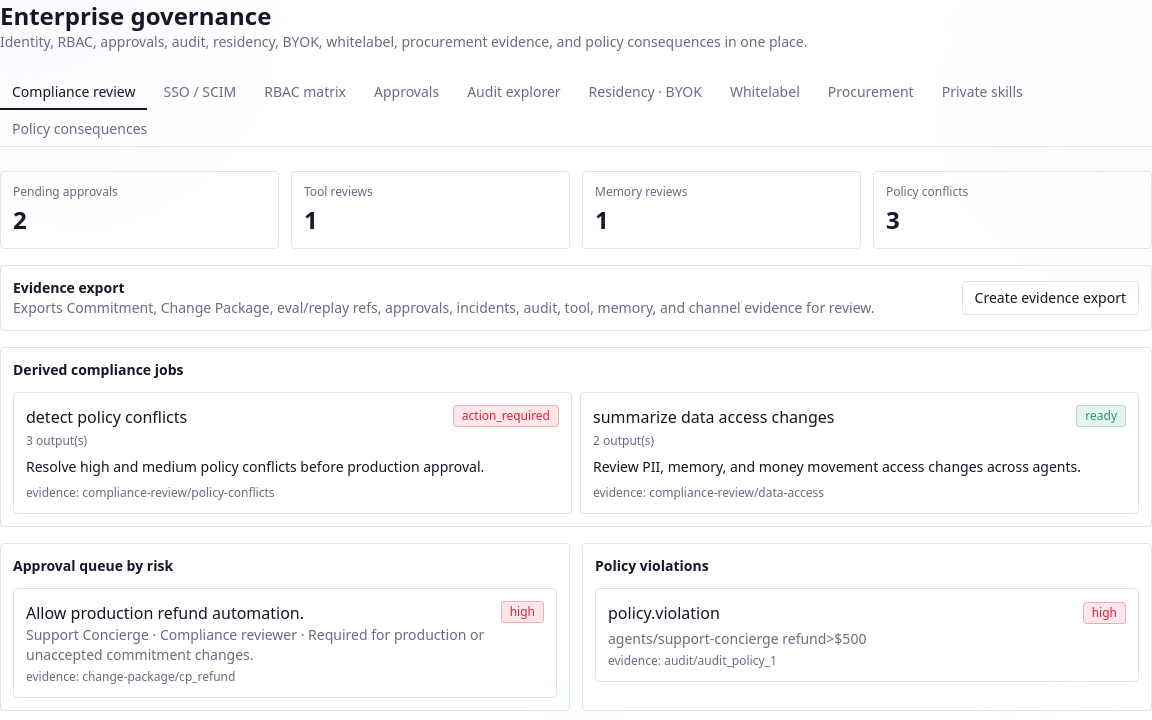
GovernOverview › does not substitute local SSO claims when compliance evidence omits SSO summaries
Click the tab with test id "govern-tab-sso": [200, 93] box [152,76,248,110]
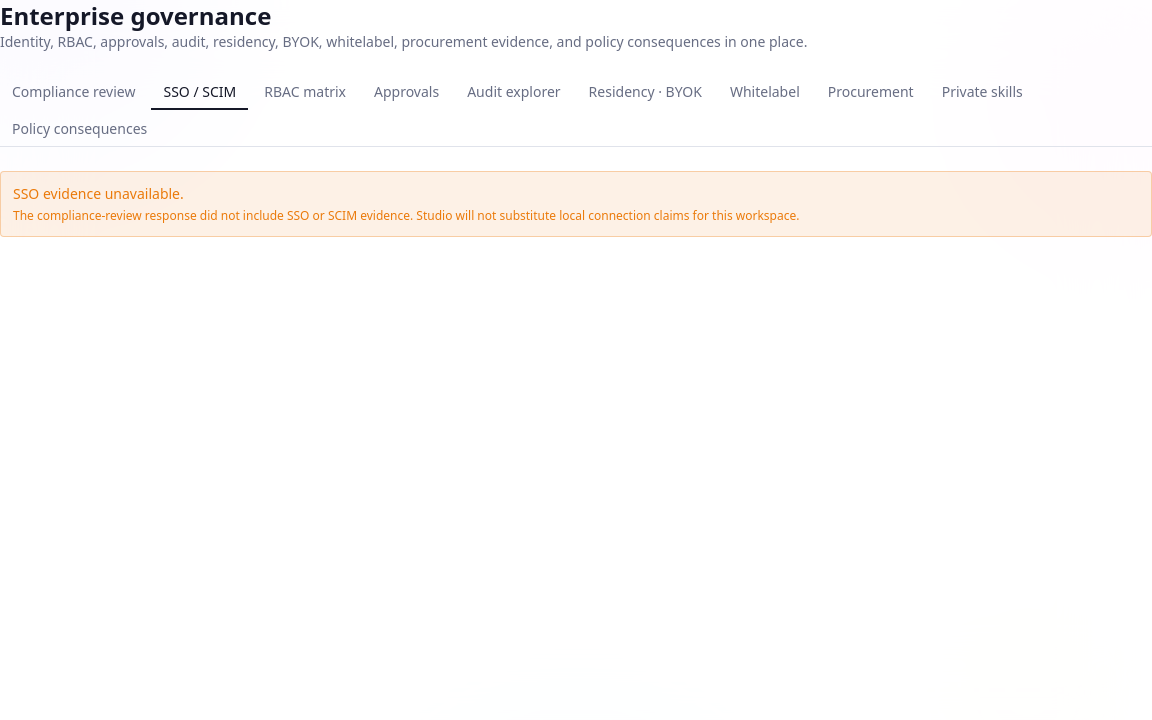
Expected: the element with test id "sso-evidence-unavailable" shows "SSO evidence unavailable", [13,184,184,203]
